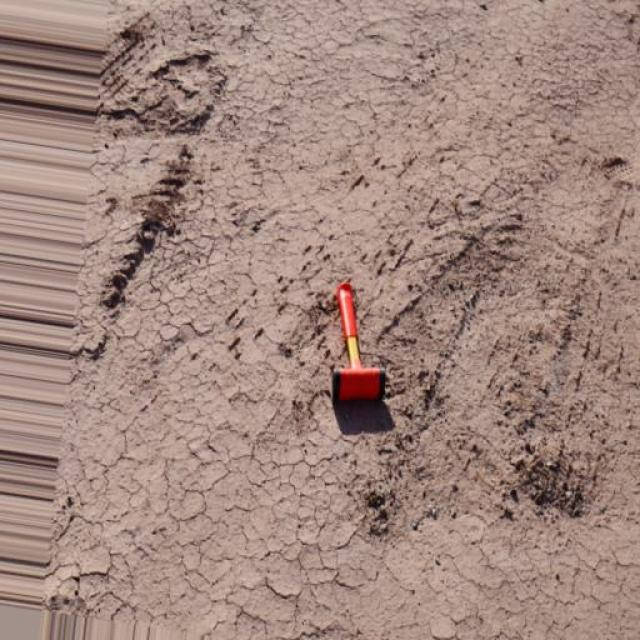mallet: (330, 280, 385, 402)
